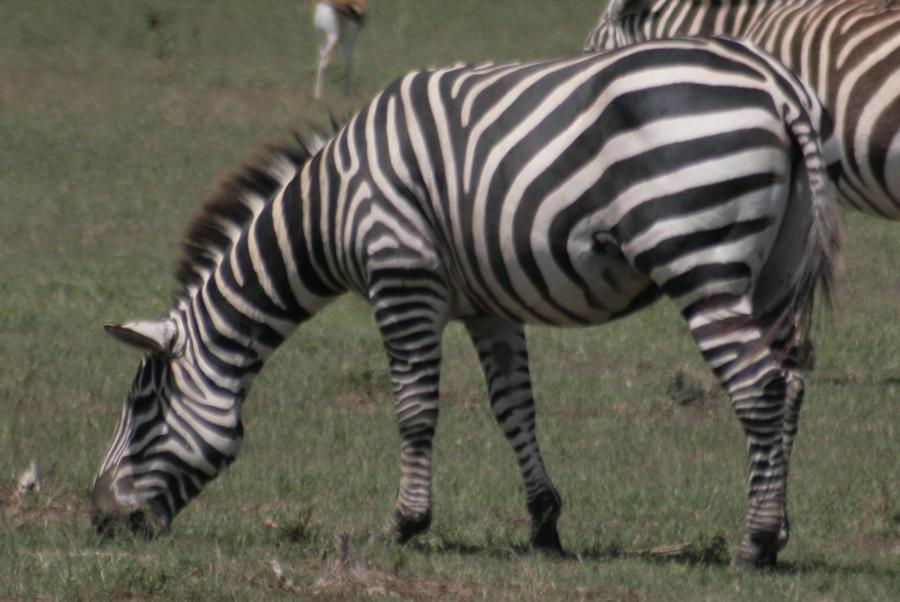zebra_plains: (310, 49, 782, 344)
